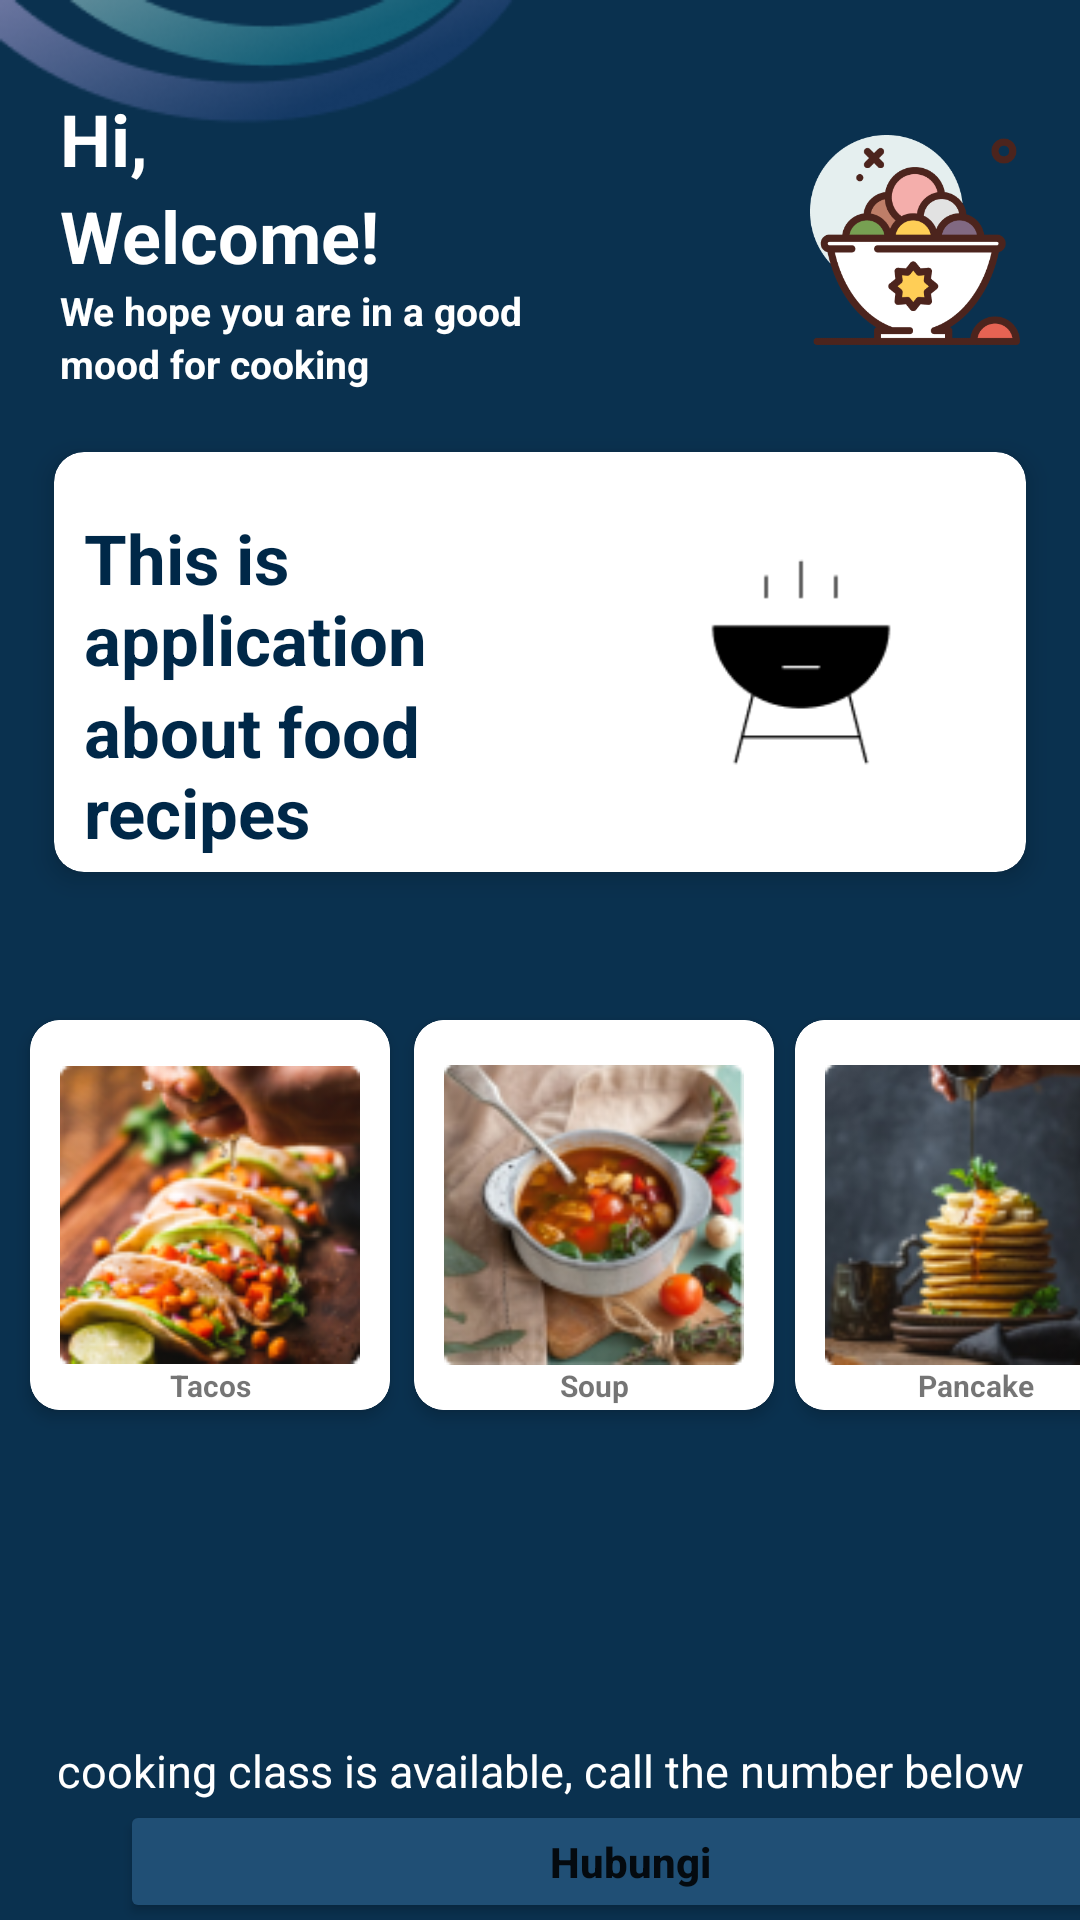

Locate icon controls on the screen. Image size 1080 × 1920, boxes as (x1,y1,x2,y2).
foodicon: (810,135,1020,345)
